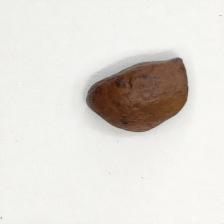NG: (85, 56, 190, 134)
